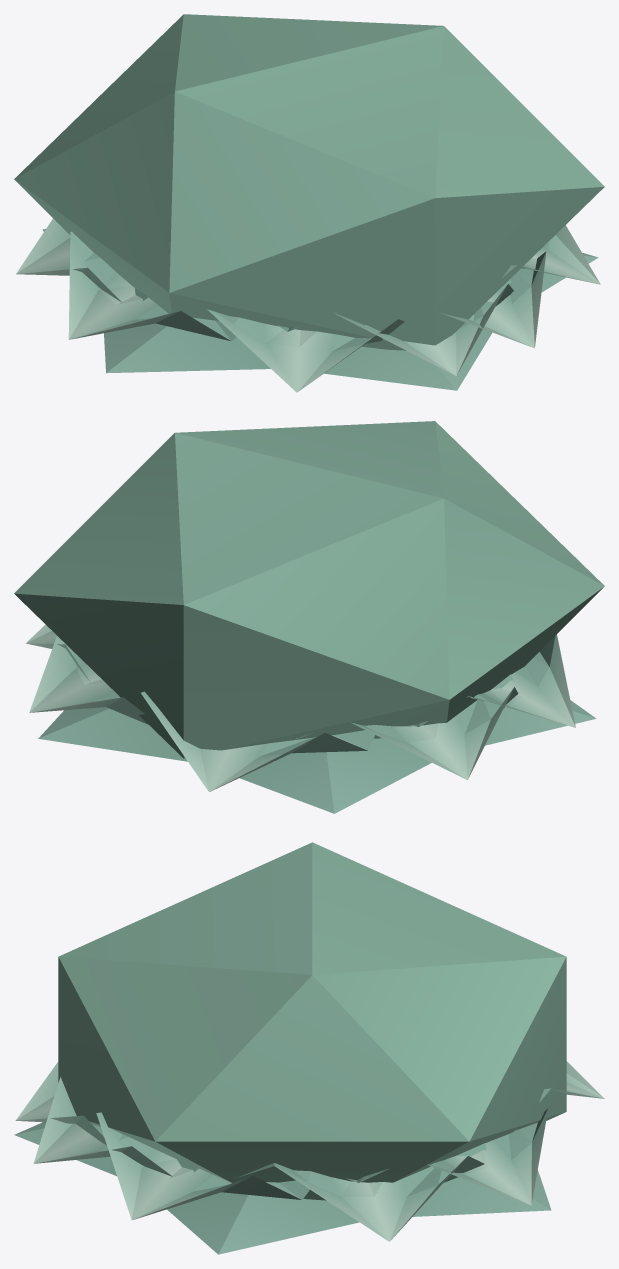
The model's file is cabbage.glb.
3 views of the same model, one above another, from view 1: azimuth 30°, elevation 25°; view 2: azimuth 150°, elevation 25°; view 3: azimuth 270°, elevation 25° (orthographic).
Parts seen in each view (by area): view 1: leaves (×3); view 2: leaves (×3); view 3: leaves (×3).
Boxes of the visible parts, x1,y1,x2,y2 form: leaves (×3): [14, 14, 604, 392]; leaves (×3): [14, 421, 604, 813]; leaves (×3): [14, 842, 604, 1254].
Bounding box in the file's own units: 2.32 × 1.1 × 2.35.
